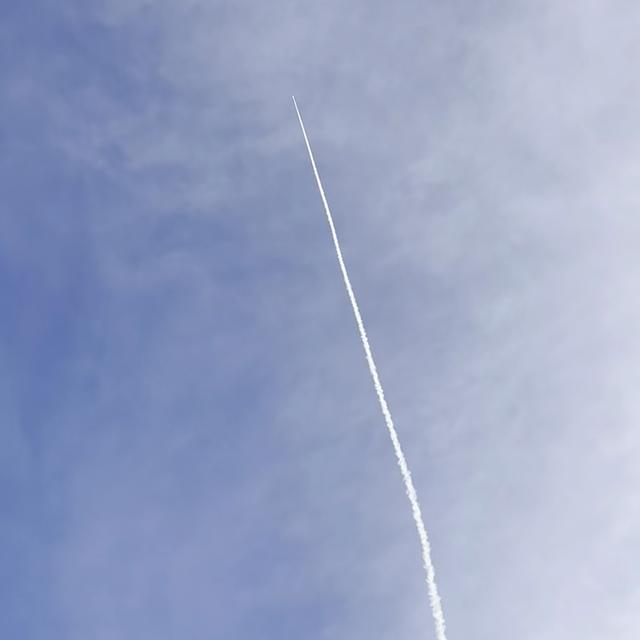smoke_trail_with_rocket: (292, 96, 447, 640)
